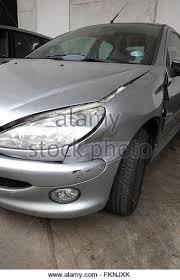front-bumper-dent: (34, 147, 111, 219)
